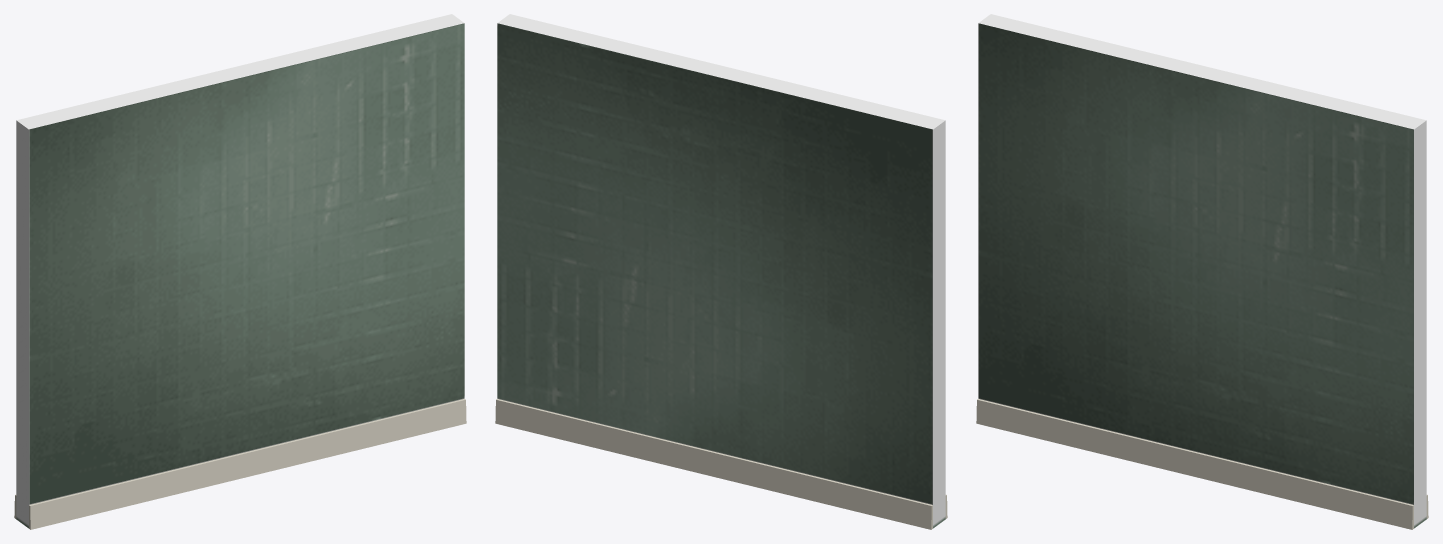
The model's file is ParedeFundo(Cozinha).glb.
3 views of the same model, side by side, from view 1: azimuth 30°, elevation 25°; view 2: azimuth 150°, elevation 25°; view 3: azimuth 330°, elevation 25° (orthographic).
Visible parts, largest first — view 1: KitchenWall-convcol; view 2: KitchenWall-convcol; view 3: KitchenWall-convcol.
Part boxes in pixels (x1,y1,x2,y2): KitchenWall-convcol: (14, 14, 466, 529); KitchenWall-convcol: (495, 14, 947, 529); KitchenWall-convcol: (976, 14, 1428, 529).
Size of the model in its own units: 4 by 3.5 by 0.2587.
2 materials, 1 textured.
